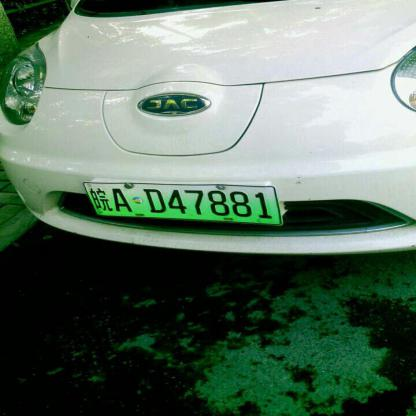lp: (83, 182, 282, 224)
